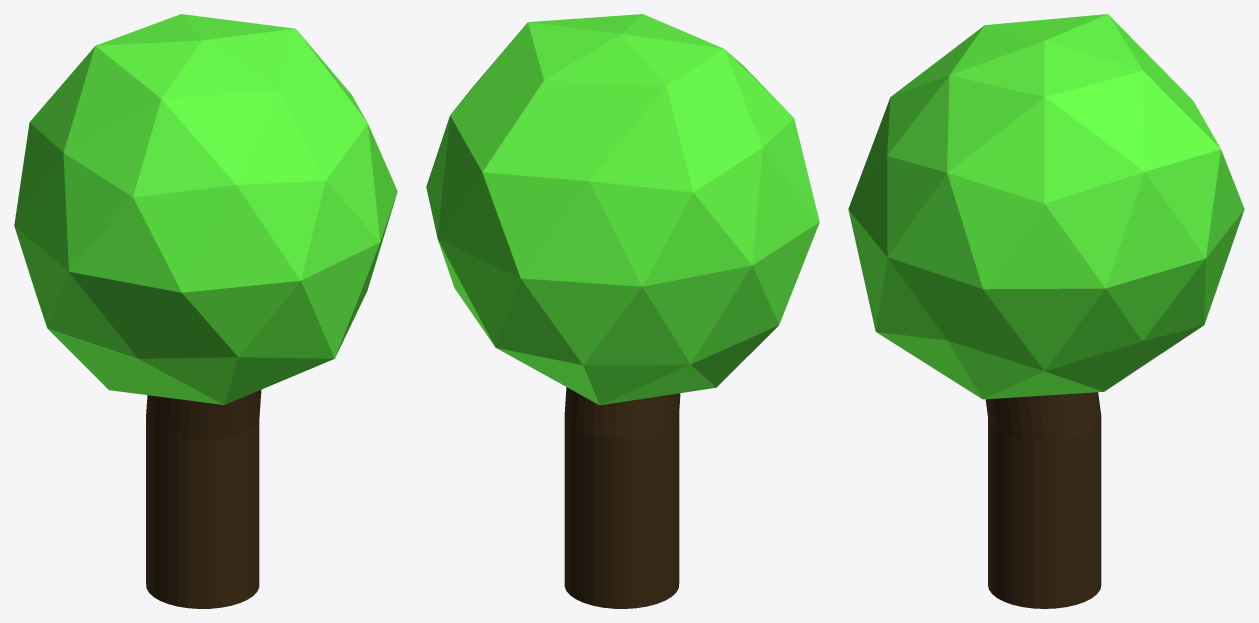
The model's file is tree.gltf.
The picture shows the model from 3 angles, left to right: view 1: azimuth 30°, elevation 25°; view 2: azimuth 150°, elevation 25°; view 3: azimuth 270°, elevation 25°; orthographic projection.
Visible parts, largest first — view 1: Icosphere, Cylinder; view 2: Icosphere, Cylinder; view 3: Icosphere, Cylinder.
Part boxes in pixels (x1,y1,x2,y2): Icosphere: (14, 14, 397, 404); Cylinder: (146, 390, 261, 608); Icosphere: (426, 14, 819, 405); Cylinder: (564, 387, 680, 608); Icosphere: (848, 14, 1244, 399); Cylinder: (985, 392, 1101, 608).
Bounding box in the file's own units: 6.69 × 10.58 × 6.98.
2 materials, 2 textured.
